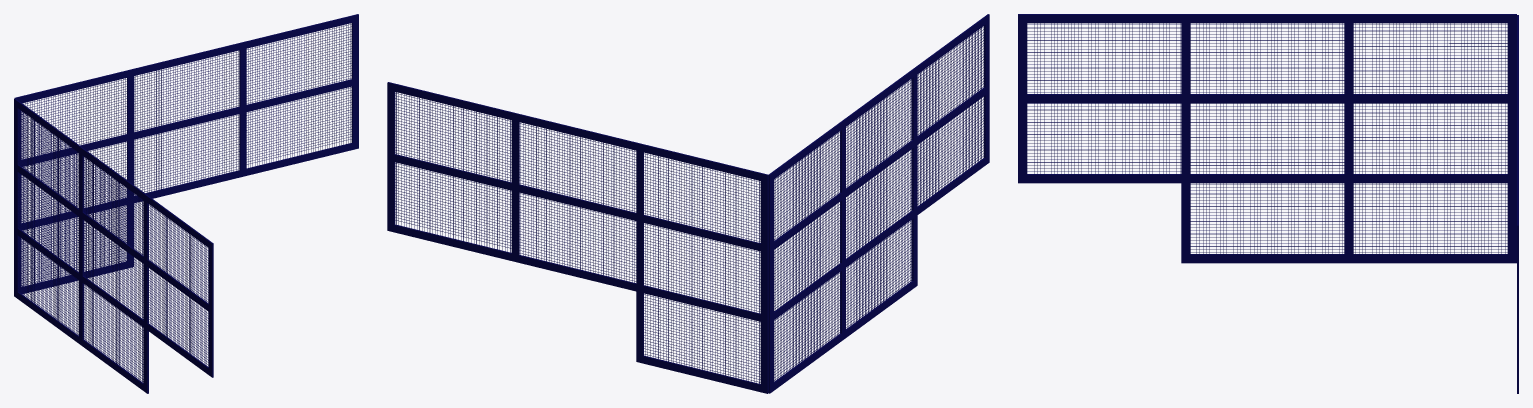
File: GradeEntrada.obj
3 renders of one model, left to right at view 1: azimuth 30°, elevation 25°; view 2: azimuth 150°, elevation 25°; view 3: azimuth 270°, elevation 25°, orthographic. The views are drawn at different scales.
Parts seen in each view (by area): view 1: Cube.043_Cube.042, Cube.044_Cube.043, Cube.047_Cube.046, Cube.048_Cube.047, Cube.036_Cube.035, Cube.042_Cube.041, Cube.030_Cube, Cube.034_Cube.033, Cube.033_Cube.032, Cube.032_Cube.031, Cube.069_Cube.068, Cube.067_Cube.066 (+24 smaller); view 2: Cube.032_Cube.031, Cube.048_Cube.047, Cube.030_Cube, Cube.033_Cube.032, Cube.043_Cube.042, Cube.047_Cube.046, Cube.044_Cube.043, Cube.034_Cube.033, Cube.036_Cube.035, Cube.042_Cube.041, Cube.069_Cube.068, Cube.067_Cube.066 (+19 smaller); view 3: Cube.056_Cube.055, Cube.055_Cube.054, Cube.054_Cube.053, Cube.051_Cube.050, Cube.067_Cube.066, Cube.066_Cube.065, Cube.063_Cube.062, Cube.069_Cube.068, Cube.068_Cube.067, Cube.065_Cube.064, Cube.064_Cube.063, Cube.052_Cube.051 (+10 smaller).
Part boxes in pixels (x1,y1,x2,y2): Cube.043_Cube.042: [14, 69, 134, 103]; Cube.044_Cube.043: [240, 14, 358, 49]; Cube.047_Cube.046: [240, 78, 358, 113]; Cube.048_Cube.047: [240, 142, 358, 177]; Cube.036_Cube.035: [134, 105, 246, 139]; Cube.042_Cube.041: [133, 42, 246, 75]; Cube.030_Cube: [134, 169, 246, 203]; Cube.034_Cube.033: [21, 133, 134, 166]; Cube.033_Cube.032: [20, 197, 133, 230]; Cube.032_Cube.031: [19, 260, 133, 293]; Cube.069_Cube.068: [143, 321, 213, 377]; Cube.067_Cube.066: [143, 193, 213, 247]; Cube.032_Cube.031: [636, 355, 768, 393]; Cube.048_Cube.047: [387, 223, 518, 262]; Cube.030_Cube: [512, 254, 643, 292]; Cube.033_Cube.032: [636, 284, 768, 323]; Cube.043_Cube.042: [636, 144, 768, 182]; Cube.047_Cube.046: [387, 153, 518, 192]; Cube.044_Cube.043: [387, 83, 518, 121]; Cube.034_Cube.033: [643, 215, 768, 252]; Cube.036_Cube.035: [519, 184, 643, 222]; Cube.042_Cube.041: [511, 113, 641, 151]; Cube.069_Cube.068: [913, 155, 989, 217]; Cube.067_Cube.066: [912, 14, 988, 76]; Cube.056_Cube.055: [1344, 254, 1516, 263]; Cube.055_Cube.054: [1344, 174, 1516, 183]; Cube.054_Cube.053: [1344, 94, 1516, 103]; Cube.051_Cube.050: [1344, 14, 1516, 23]; Cube.067_Cube.066: [1018, 14, 1190, 23]; Cube.066_Cube.065: [1181, 14, 1353, 23]; Cube.063_Cube.062: [1181, 254, 1344, 263]; Cube.069_Cube.068: [1018, 174, 1181, 183]; Cube.068_Cube.067: [1018, 94, 1181, 103]; Cube.065_Cube.064: [1181, 94, 1344, 103]; Cube.064_Cube.063: [1181, 174, 1344, 183]; Cube.052_Cube.051: [1507, 14, 1516, 94].
Bounding box in the file's own units: 7.38 × 4.04 × 7.38.
